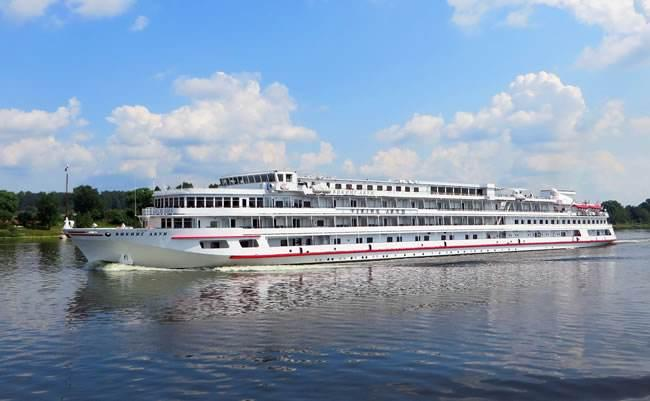youlun: (61, 165, 627, 269)
